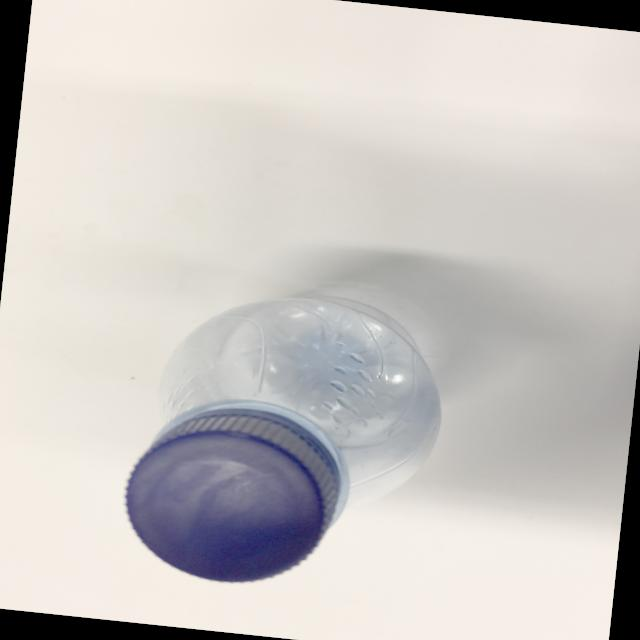Plastic: (111, 266, 481, 597)
